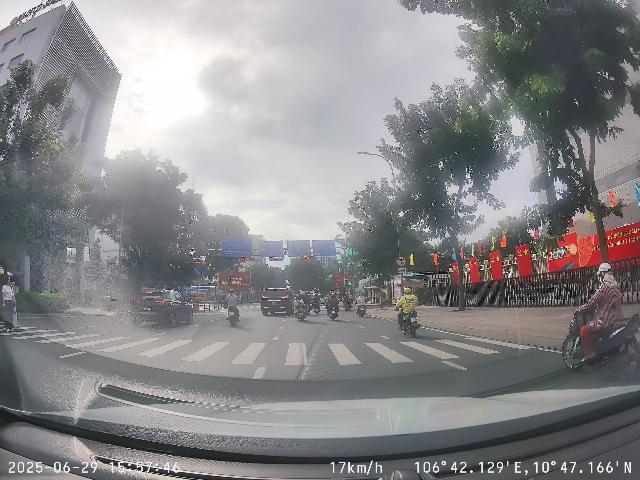137-cam-re-trai-va-re-phai: (395, 255, 407, 267)
